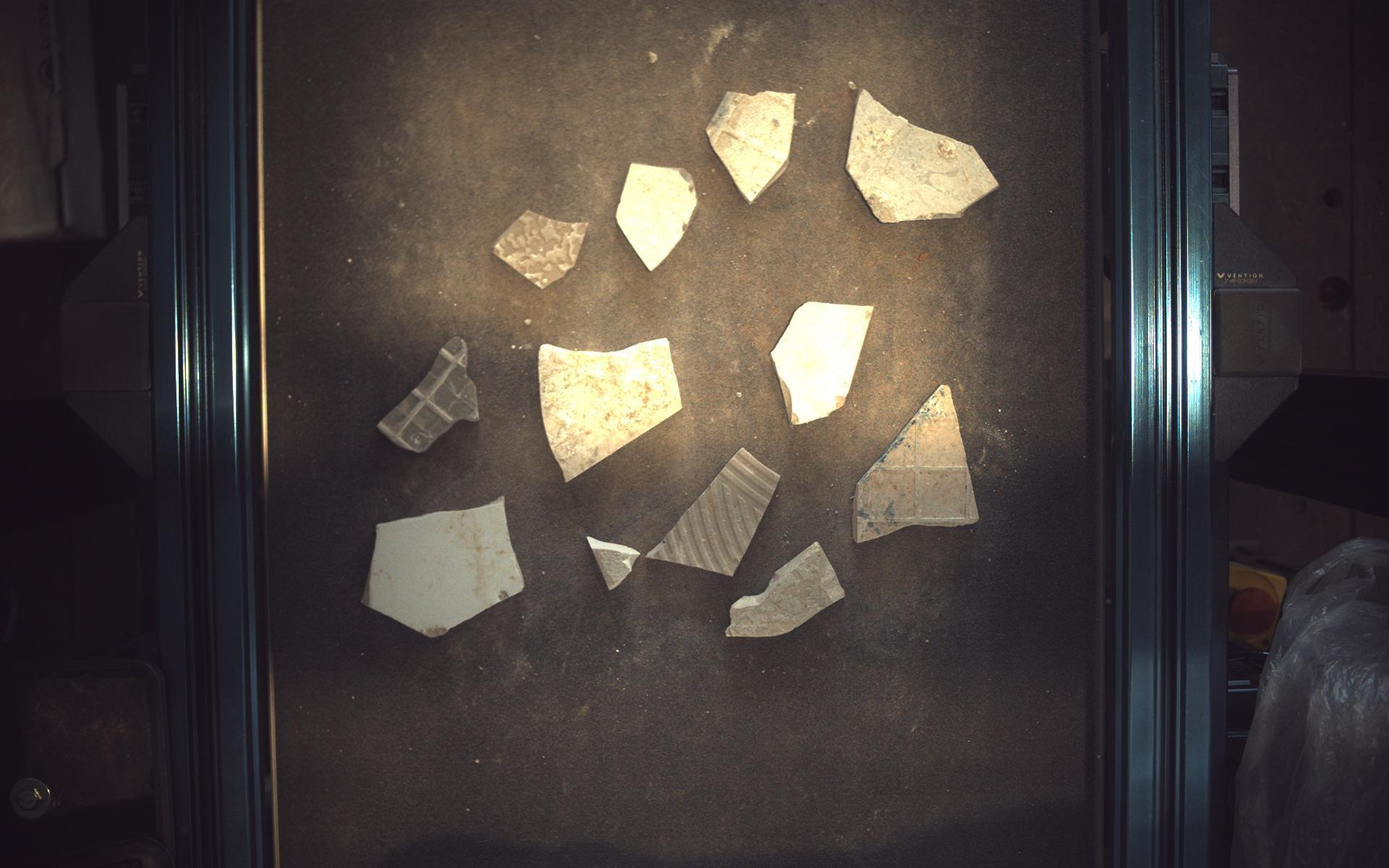tile: (361, 496, 524, 639), (539, 338, 683, 482), (848, 88, 1000, 222), (855, 385, 980, 543), (647, 448, 781, 576), (772, 301, 875, 425), (377, 336, 479, 453), (726, 542, 846, 638), (708, 90, 797, 203), (617, 162, 698, 269), (493, 209, 590, 288), (588, 537, 640, 591)
